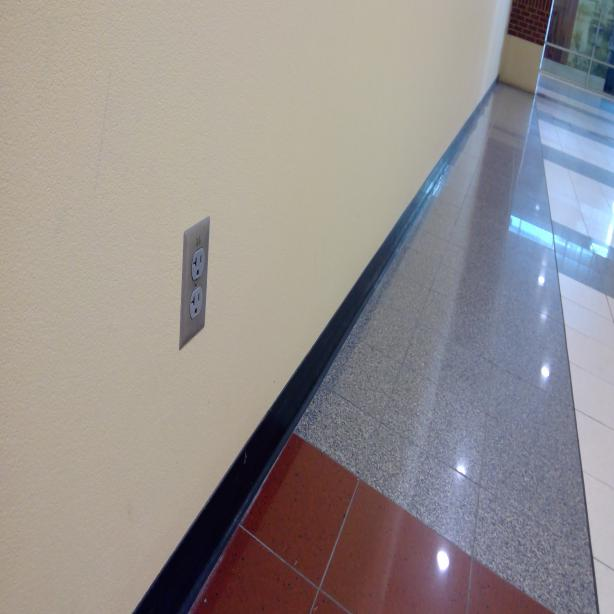typeb: (191, 246, 207, 281), (189, 289, 205, 317)
